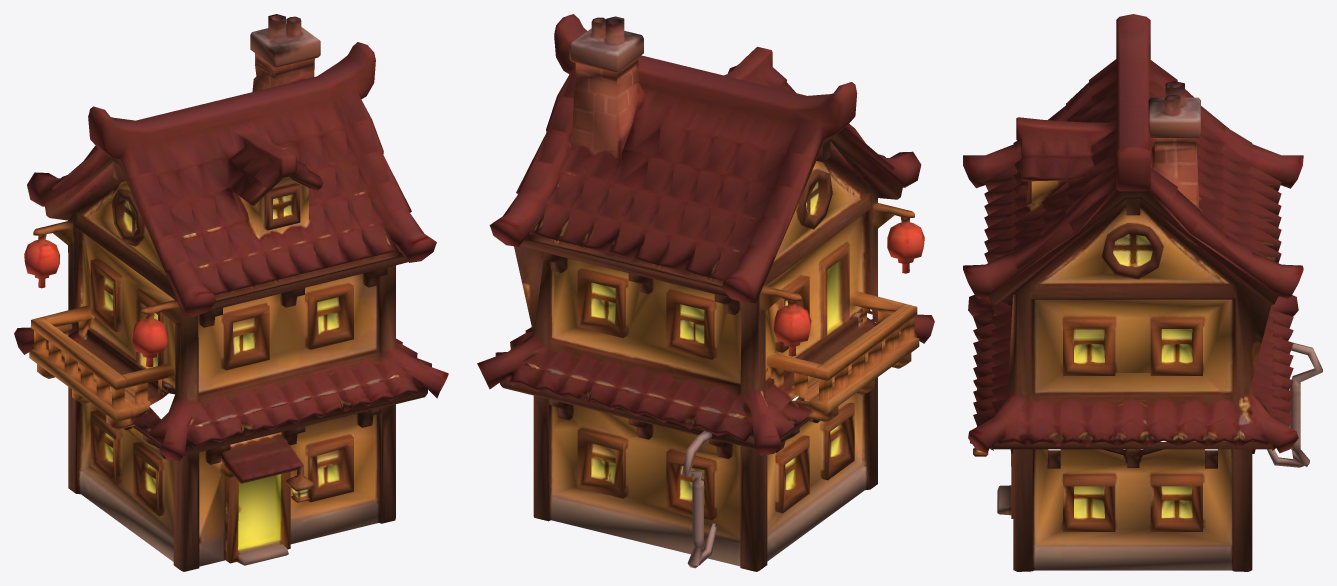
File: noodlehouse_c.glb
The picture shows the model from 3 angles, left to right: view 1: azimuth 30°, elevation 25°; view 2: azimuth 150°, elevation 25°; view 3: azimuth 270°, elevation 25°; orthographic projection. The views are drawn at different scales.
Visible parts, largest first — view 1: tripo_node_f064a6a7-db2e-402c-b38a-4d9024053ecf; view 2: tripo_node_f064a6a7-db2e-402c-b38a-4d9024053ecf; view 3: tripo_node_f064a6a7-db2e-402c-b38a-4d9024053ecf.
Boxes of the visible parts, <box> form: tripo_node_f064a6a7-db2e-402c-b38a-4d9024053ecf: <box>14,14,448,571</box>; tripo_node_f064a6a7-db2e-402c-b38a-4d9024053ecf: <box>477,14,934,571</box>; tripo_node_f064a6a7-db2e-402c-b38a-4d9024053ecf: <box>963,14,1322,571</box>.
Bounding box in the file's own units: 0.6796 × 0.9782 × 0.6834.
Materials: 1 (1 with a texture image).
